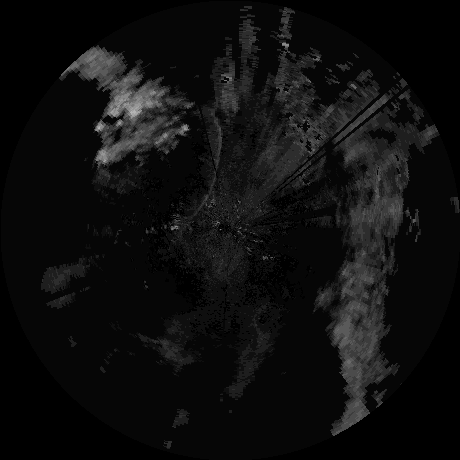frontgust: (201, 109, 225, 203)
